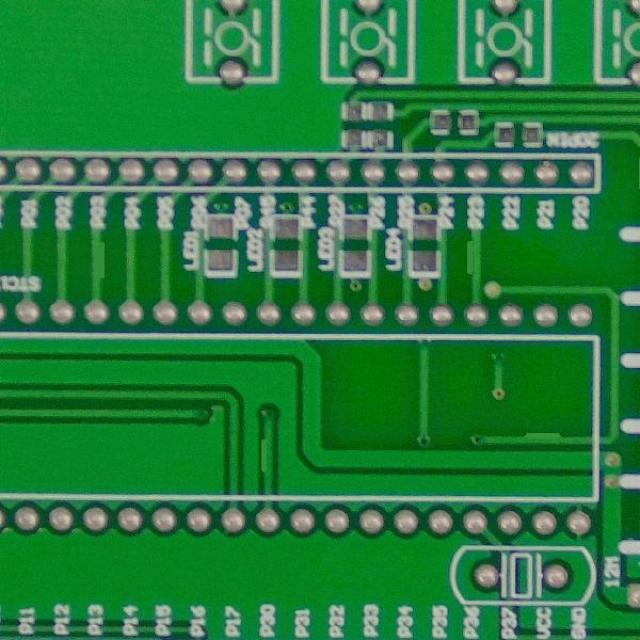spur: (516, 421, 570, 448), (81, 237, 111, 280), (254, 434, 279, 480), (462, 237, 487, 274)
